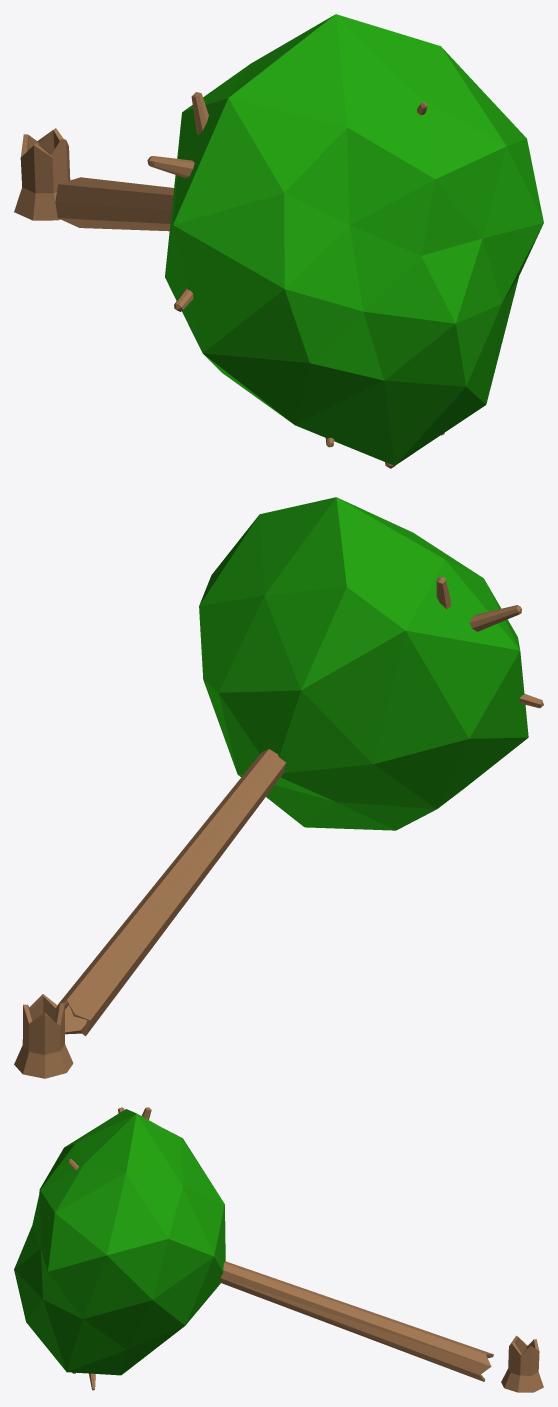
File: Tree_9 Broken.fbx
3 renders of one model, top to bottom at view 1: azimuth 30°, elevation 25°; view 2: azimuth 150°, elevation 25°; view 3: azimuth 270°, elevation 25°, orthographic. The views are drawn at different scales.
Parts seen in each view (by area): view 1: Tree9Broken_mesh; view 2: Tree9Broken_mesh; view 3: Tree9Broken_mesh.
Part boxes in pixels (box(x1,y1,x2,y2)): Tree9Broken_mesh: box(14, 14, 543, 468); Tree9Broken_mesh: box(14, 497, 543, 1078); Tree9Broken_mesh: box(14, 1107, 543, 1392).
Size of the model in its own units: 200 by 224 by 403.
